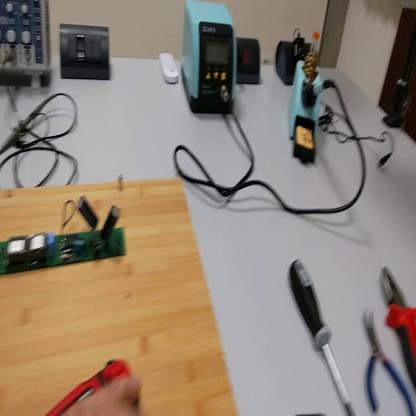electric screwdriver: (49, 357, 145, 416)
hand: (68, 373, 141, 414)
high voltage board: (2, 195, 129, 276)
oscilloscope: (2, 2, 52, 89)
oscilloscope probe tip: (2, 101, 44, 154)
pliers: (363, 304, 415, 414), (382, 261, 416, 391)
screwdriver-: (290, 259, 355, 415)
socket: (273, 28, 320, 84), (237, 38, 262, 87)
welder base: (287, 32, 324, 170)
welder probe tip: (309, 78, 333, 106)
welder station: (180, 2, 239, 119)
working area: (2, 178, 239, 415)
